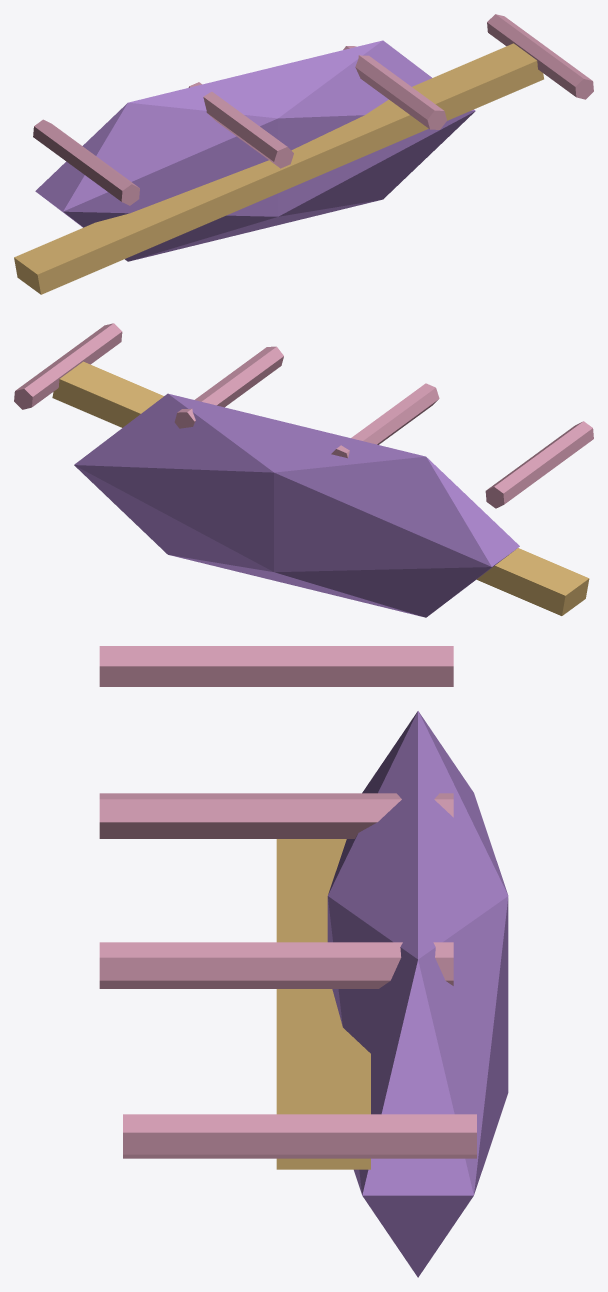
File: nudibranch.glb
3 renders of one model, top to bottom at view 1: azimuth 30°, elevation 25°; view 2: azimuth 150°, elevation 25°; view 3: azimuth 270°, elevation 25°, orthographic. The views are drawn at different scales.
Visible parts, largest first — view 1: world; view 2: world; view 3: world.
Boxes of the visible parts, x1=… form: world: x1=14, y1=14, x2=593, y2=294; world: x1=14, y1=323, x2=593, y2=617; world: x1=99, y1=646, x2=508, y2=1277.
Size of the model in its own units: 1.01 by 0.2977 by 0.3466.
